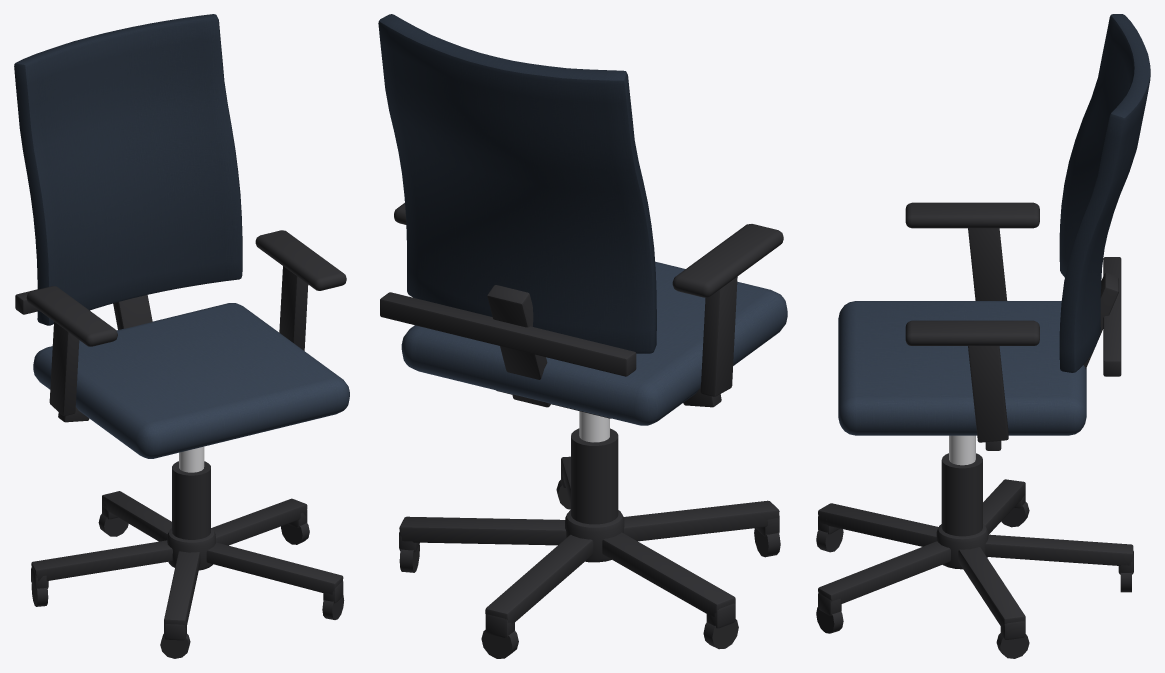
File: office-chair.glb
3 views of the same model, side by side, from view 1: azimuth 30°, elevation 25°; view 2: azimuth 150°, elevation 25°; view 3: azimuth 270°, elevation 25° (orthographic). The views are drawn at different scales.
Parts seen in each view (by area): view 1: office-chair; view 2: office-chair; view 3: office-chair.
Part boxes in pixels (x1,y1,x2,y2): office-chair: (14,14,349,658); office-chair: (378,14,787,658); office-chair: (816,14,1150,658).
Size of the model in its own units: 0.6421 by 1.13 by 0.647.
4 materials, 2 textured.
